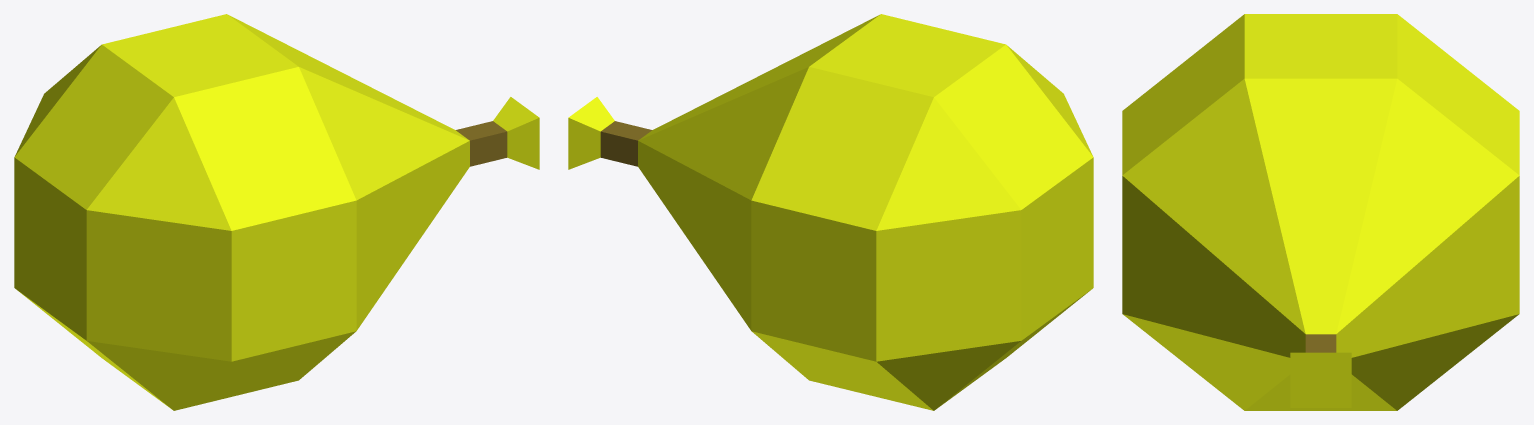
The model's file is obj_party_balloon_6_0.obj.
The picture shows the model from 3 angles, left to right: view 1: azimuth 30°, elevation 25°; view 2: azimuth 150°, elevation 25°; view 3: azimuth 270°, elevation 25°; orthographic projection. The views are drawn at different scales.
Bounding box in the file's own units: 0.2969 × 0.1875 × 0.2031.
